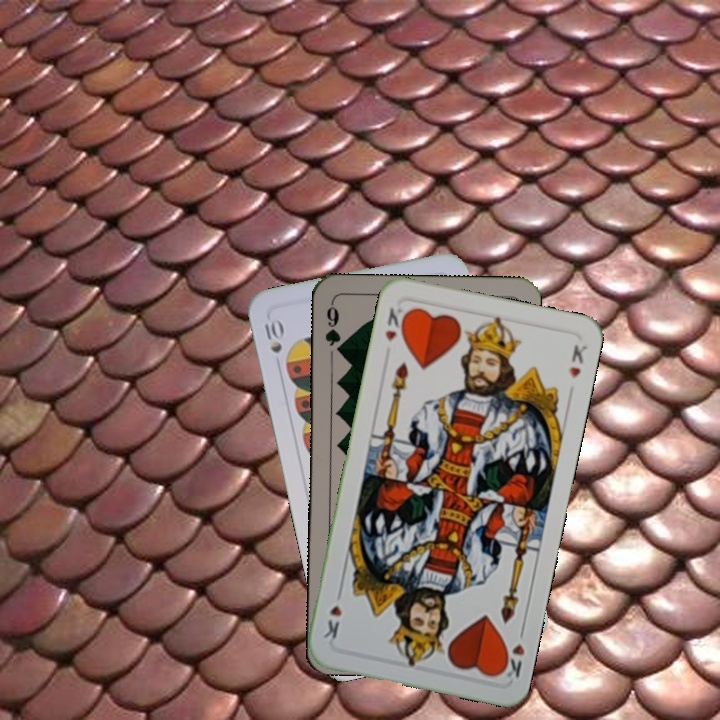G9: (321, 299, 346, 358)
HK: (496, 623, 528, 682), (381, 303, 410, 344)
S10: (259, 315, 286, 356)
